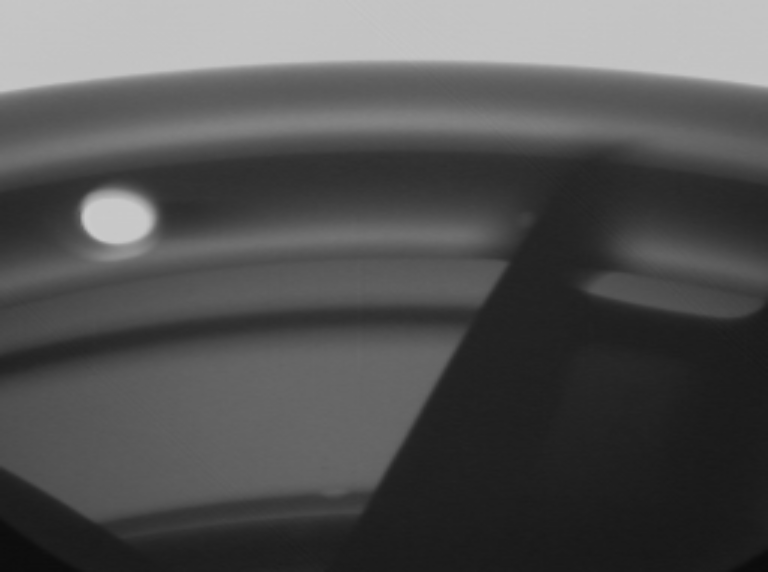defect: (510, 203, 546, 235)
